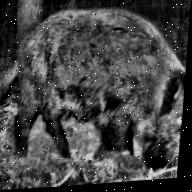boar: (3, 0, 191, 180)
